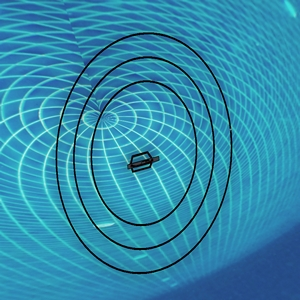submarine: (134, 151, 160, 173)
